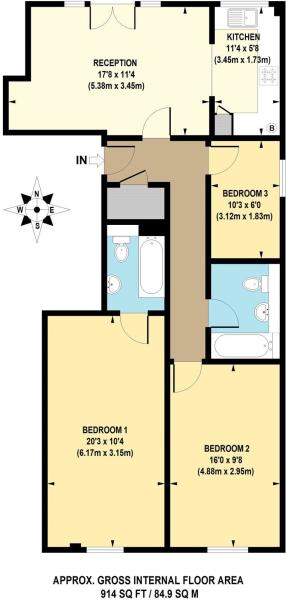GrossArea: (51, 573, 246, 600)
